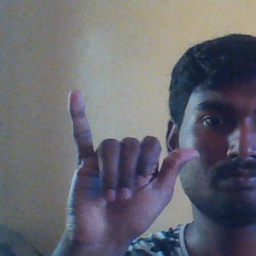J: (59, 85, 201, 244)
